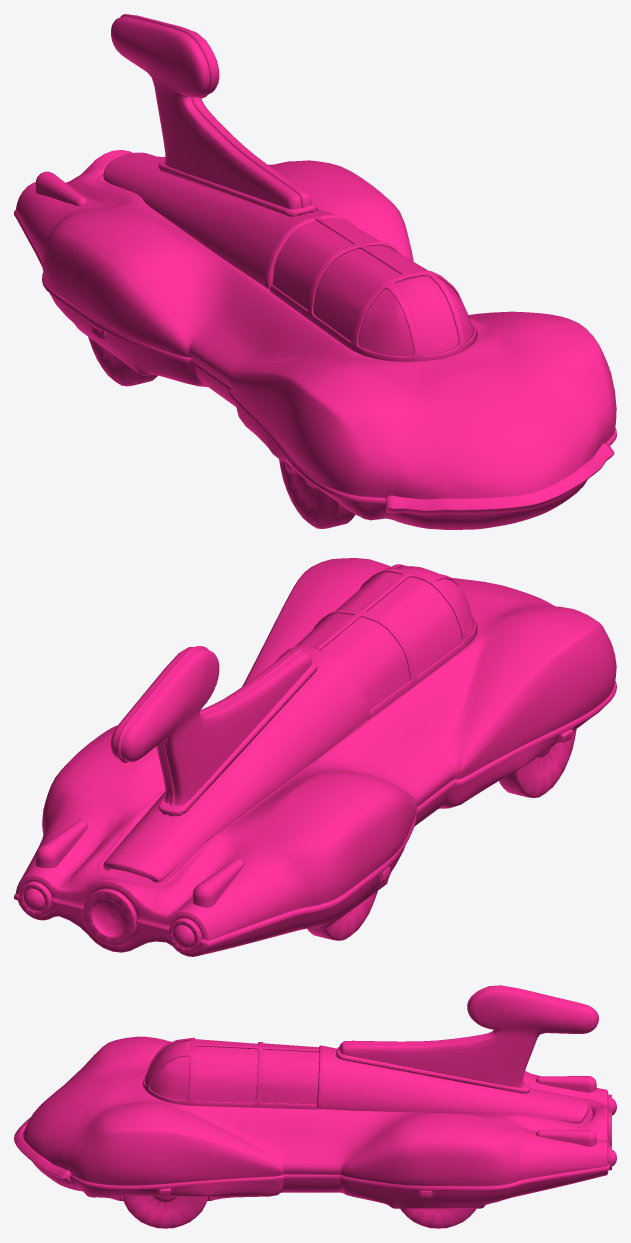
File: ToyCar.glb
3 views of the same model, one above another, from view 1: azimuth 30°, elevation 25°; view 2: azimuth 150°, elevation 25°; view 3: azimuth 270°, elevation 25° (orthographic). The views are drawn at different scales.
Visible parts, largest first — view 1: empty_3; view 2: empty_3; view 3: empty_3.
Boxes of the visible parts, left/top/right/bottom form: empty_3: left=14, top=14, right=616, bottom=529; empty_3: left=14, top=558, right=616, bottom=956; empty_3: left=14, top=985, right=616, bottom=1228.
Size of the model in its own units: 12.44 by 11.61 by 31.31.
